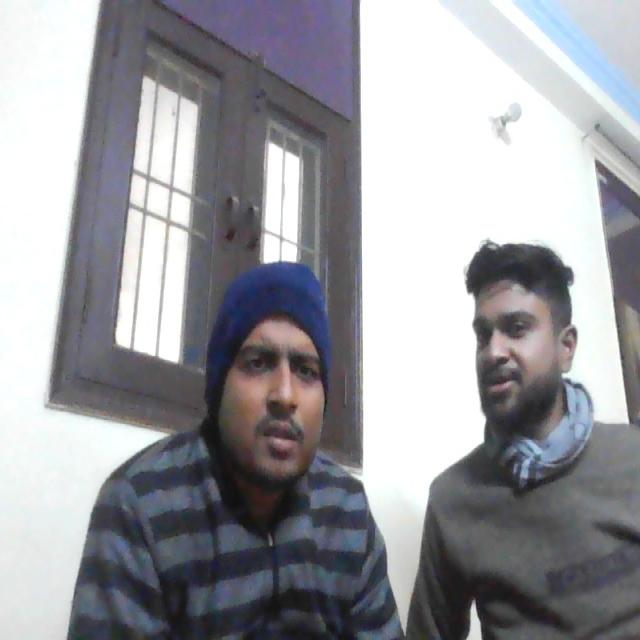real: (209, 256, 339, 503), (464, 231, 569, 429)
